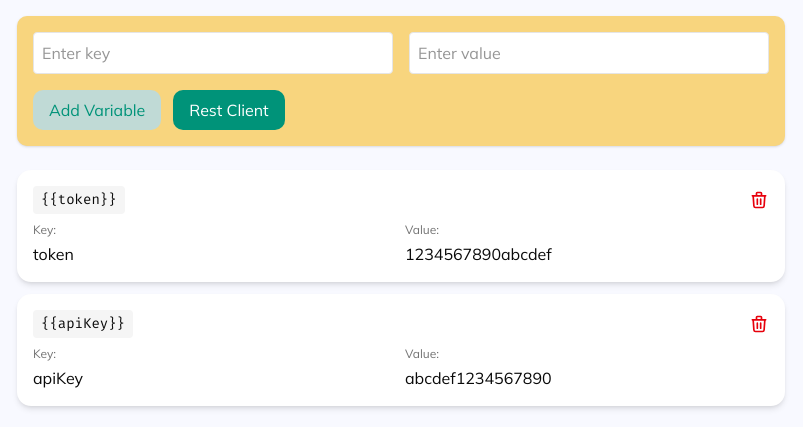
Test: VariablesEditor › copies variable key as {{key}} and shows "Copied!" message
Step 1. Click the text titled "Click to copy" → point(79, 200), box [33,186,125,214]
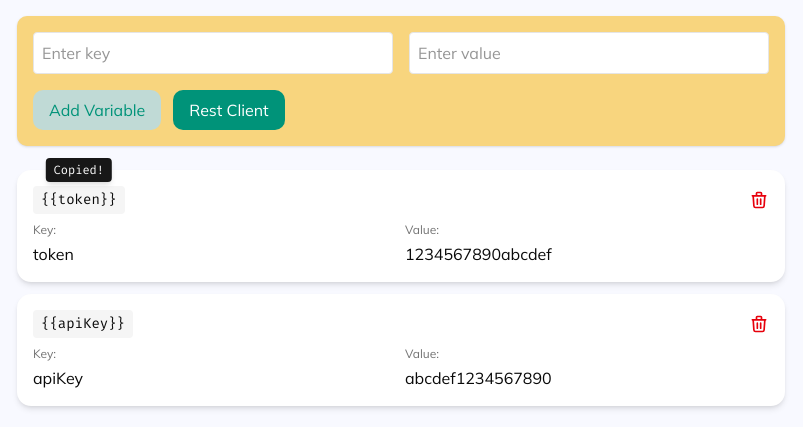
Expected: the text "Copied!" is shown, [46,158,112,182]
